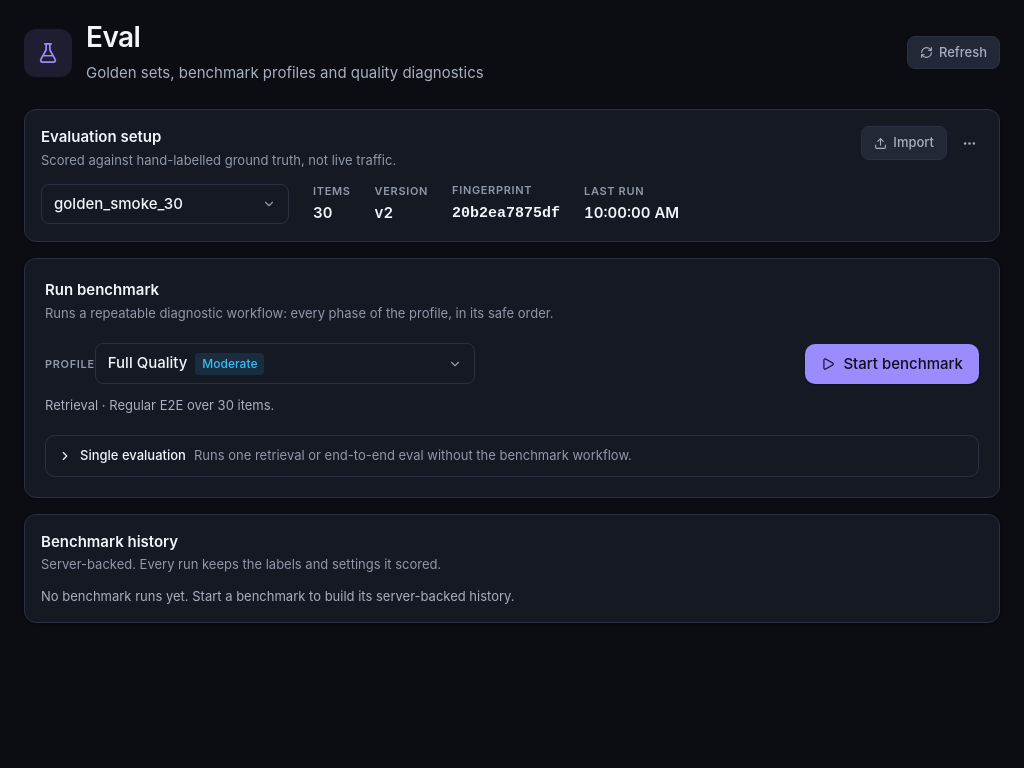
Test: EvalTab evaluation setup › opens the importer from the setup card
This screenshot has width=1024, height=768.
Click the button "Import": (904, 143) [861,126,947,160]
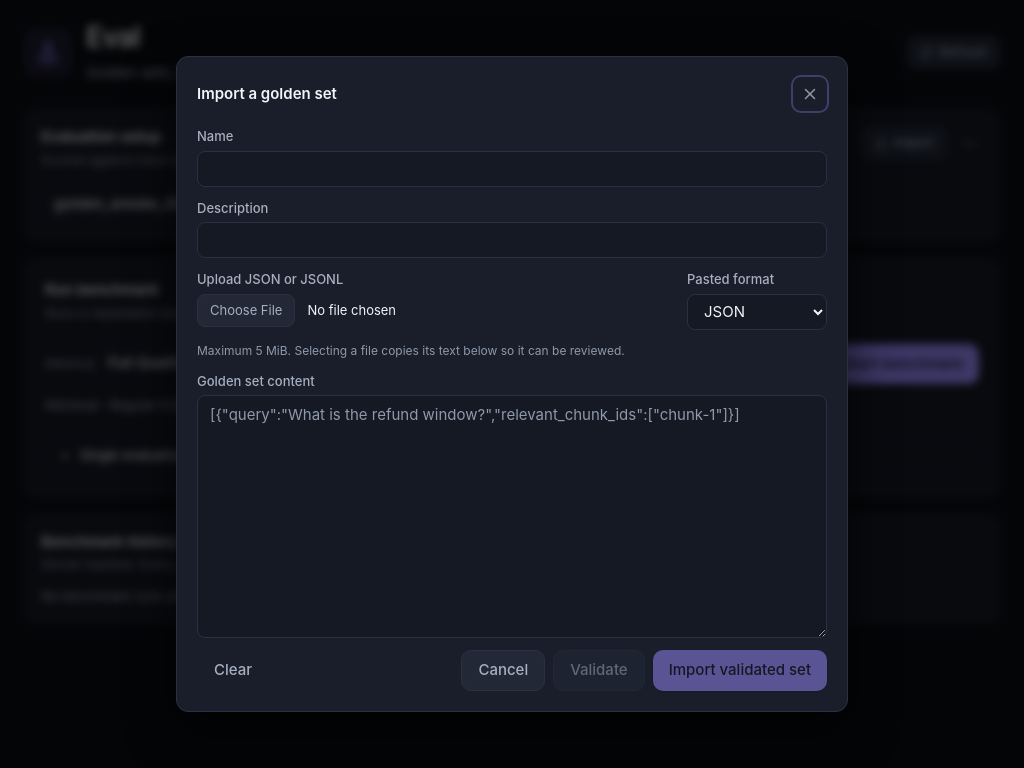
expect the dialog shows "golden set": met, box [197,84,337,103]
